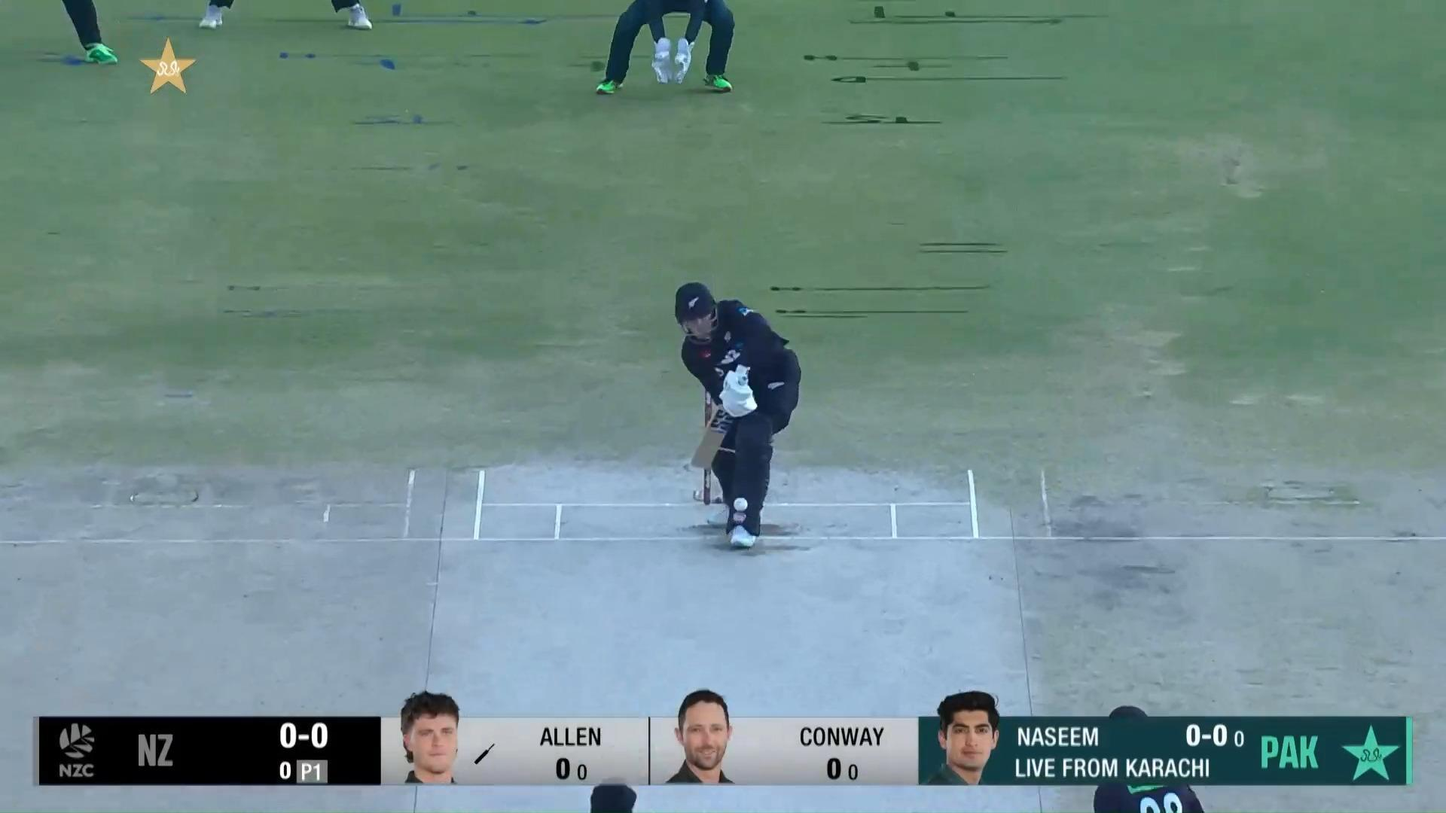BM 1: (675, 282, 802, 549)
BO: (589, 778, 637, 812)
